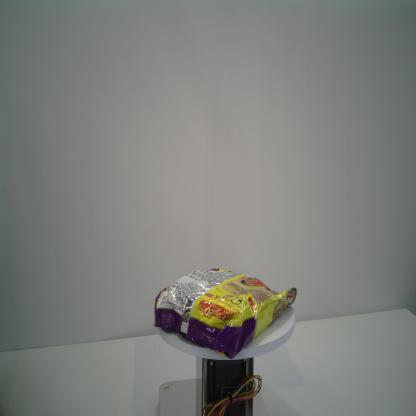Instant Noodles: (152, 265, 298, 361)
